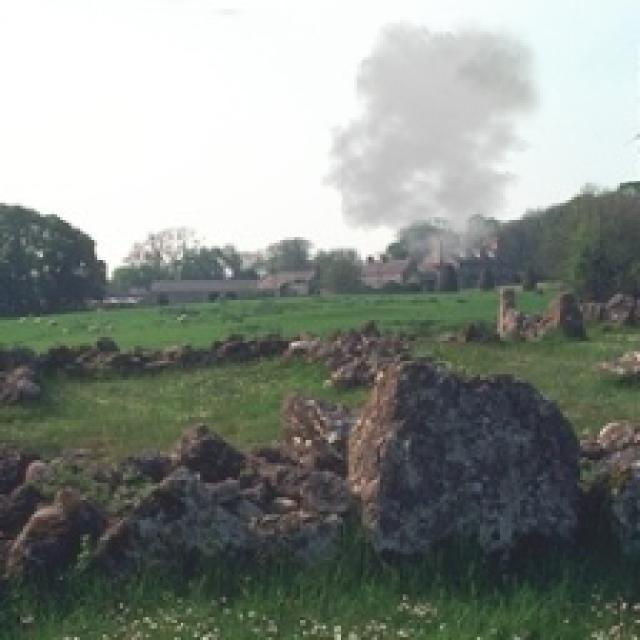Smoke: (321, 11, 548, 266)
